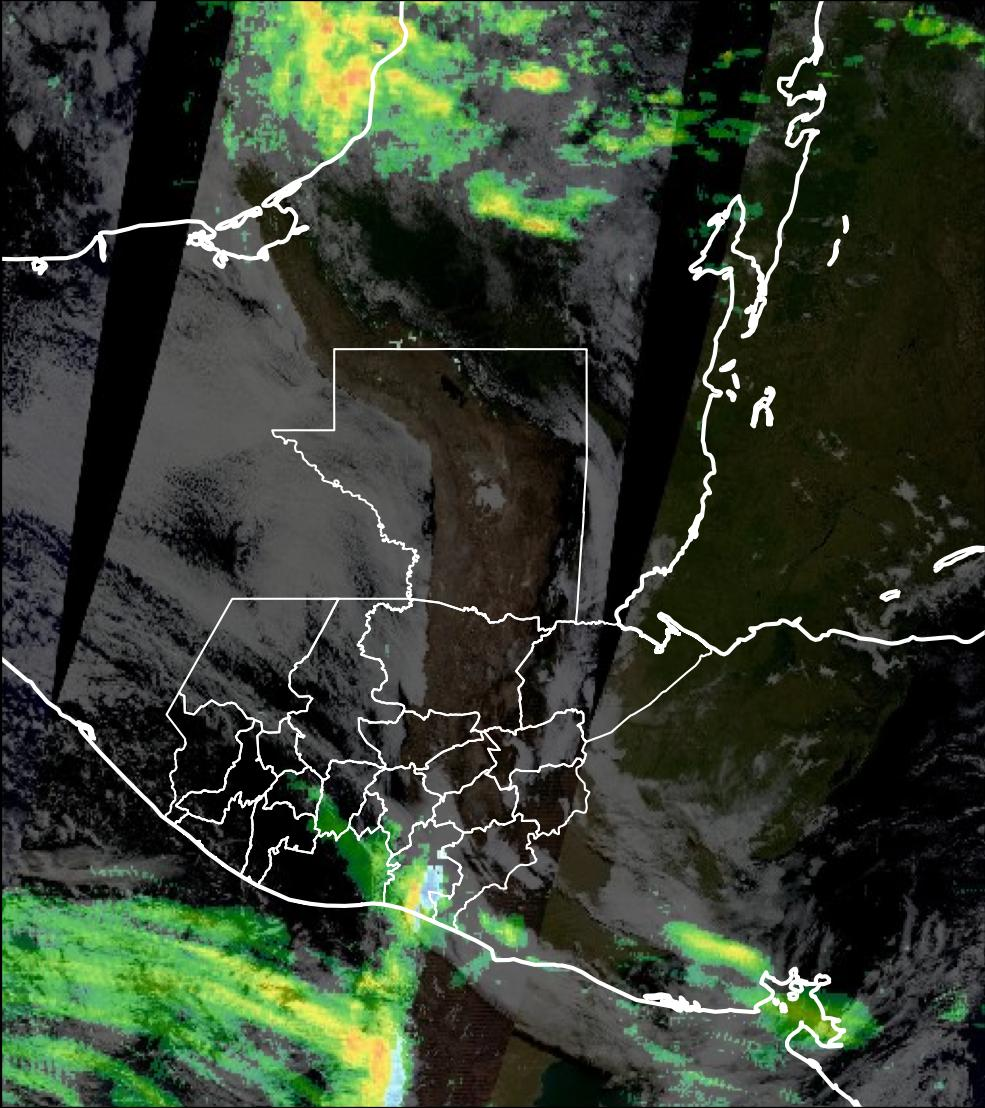precipitacion: (313, 62, 374, 116)
